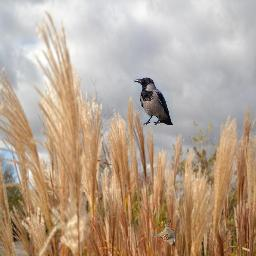Crow: (133, 77, 173, 125)
Sparrow: (151, 218, 175, 246)
